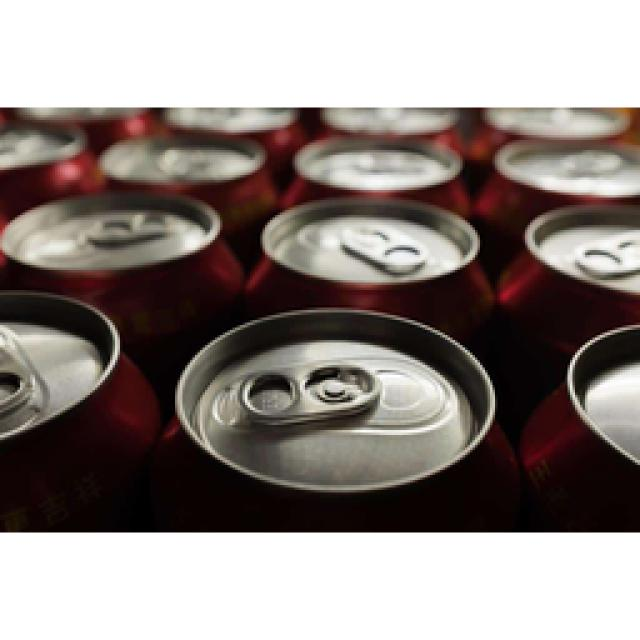aluminum_soda_cans: (182, 312, 510, 532), (2, 296, 160, 532), (240, 206, 493, 296), (7, 188, 220, 294), (537, 312, 635, 528), (512, 195, 635, 307)
